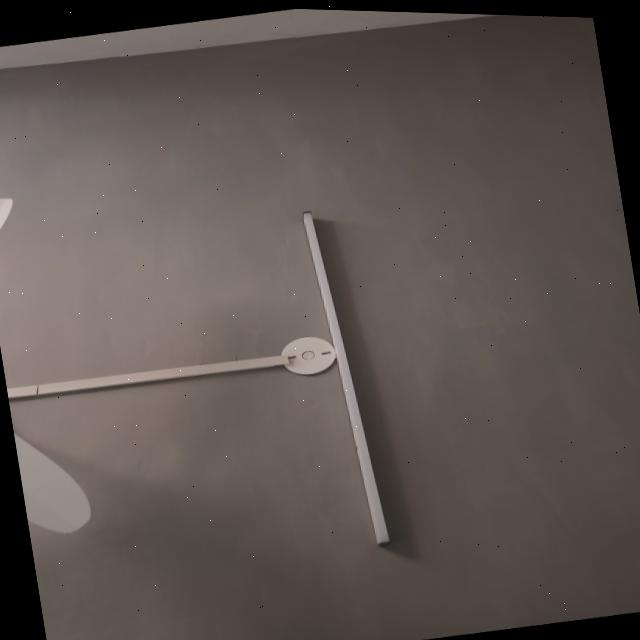fluorescent tube: (270, 195, 419, 563)
